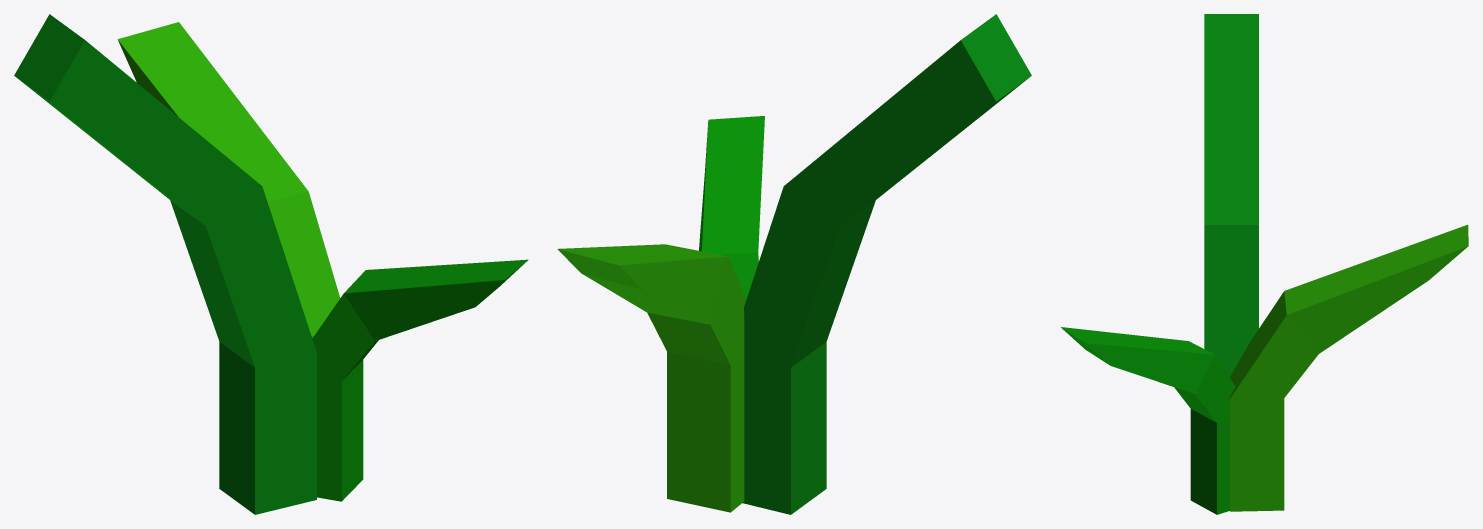
File: ferngrass.fbx
The picture shows the model from 3 angles, left to right: view 1: azimuth 30°, elevation 25°; view 2: azimuth 150°, elevation 25°; view 3: azimuth 270°, elevation 25°; orthographic projection. The views are drawn at different scales.
Visible parts, largest first — view 1: Cube; view 2: Cube; view 3: Cube.
Part boxes in pixels (<box>): Cube: <box>14,14,528,514</box>; Cube: <box>557,14,1031,514</box>; Cube: <box>1061,14,1468,514</box>.
Size of the model in its own units: 130 by 160 by 150.
